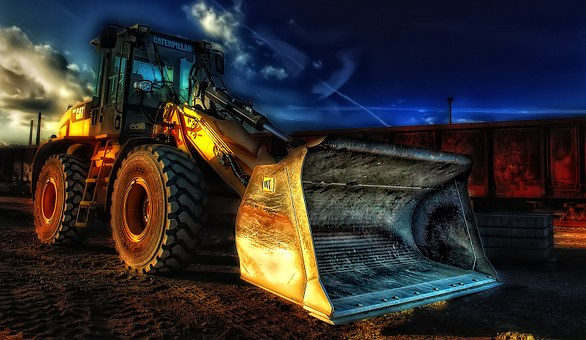excavator: (27, 19, 510, 328)
